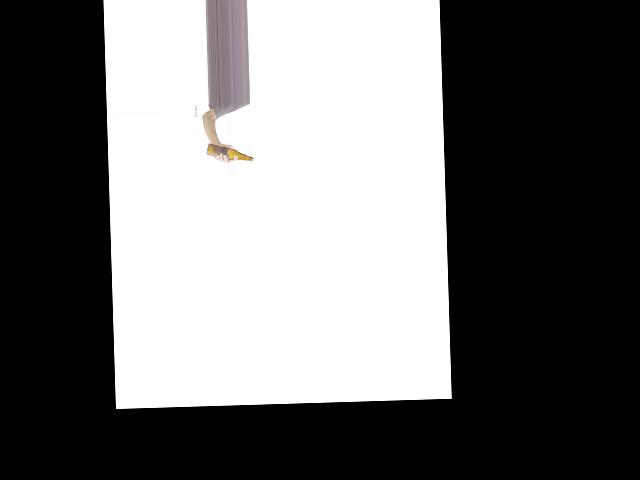beer: (205, 141, 253, 162)
